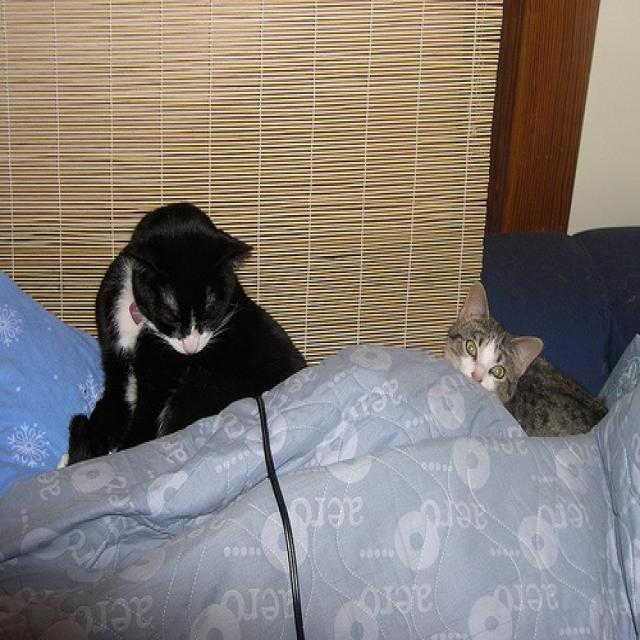cat: (65, 193, 308, 471), (444, 283, 612, 442)
